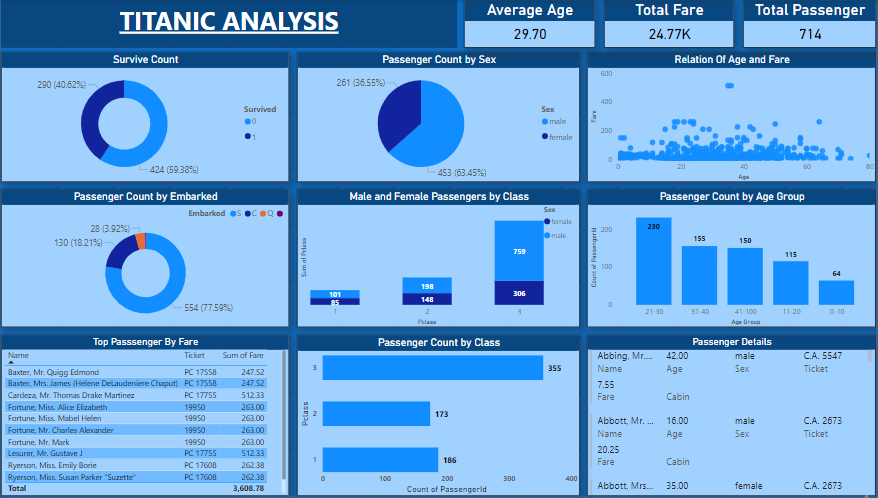

Layout of this report page (visuals, bound fields, positions):
{"tool":"powerbi","page":{"name":"DASHBOARD","canvas":[1500,850],"ordinal":0},"visuals":[{"type":"donutChart","title":"Survive Count","fields":{"Category":["Titanic-Dataset.Survived"],"Y":["Titanic-Dataset.PassengerId"]},"box":[0,89.1,493.7,222.9],"z":0},{"type":"pieChart","title":" Passenger Count by Sex","fields":{"Category":["Titanic-Dataset.Sex"],"Y":["Titanic-Dataset.PassengerId"]},"box":[507.4,89.1,485.1,222.9],"z":1000},{"type":"scatterChart","title":"Relation Of Age and Fare","fields":{"X":["Titanic-Dataset.Age"],"Y":["Titanic-Dataset.Fare"]},"box":[1004.6,89.1,495.4,222.9],"z":2000},{"type":"donutChart","title":"Passenger Count by Embarked","fields":{"Category":["Titanic-Dataset.Embarked"],"Y":["Titanic-Dataset.PassengerId"]},"box":[0,324,493.7,236.6],"z":3000},{"type":"tableEx","title":"Top Passsenger By Fare","fields":{"Values":["Titanic-Dataset.Name","Titanic-Dataset.Ticket","Titanic-Dataset.Fare"]},"box":[0,574.3,493.7,276],"z":4000},{"type":"card","title":"Average Age","fields":{"Values":["Titanic-Dataset.Age"]},"box":[793.7,0,224.6,82.3],"z":5000},{"type":"multiRowCard","title":"Passenger Details","fields":{"Values":["Titanic-Dataset.Name","Titanic-Dataset.Age","Titanic-Dataset.Sex","Titanic-Dataset.Ticket","Titanic-Dataset.Fare","Titanic-Dataset.Cabin"]},"box":[1004.6,574.3,495.4,276],"z":6000},{"type":"columnChart","title":"Male and Female Passengers by Class","fields":{"Category":["Titanic-Dataset.Pclass"],"Y":["Titanic-Dataset.Pclass"],"Series":["Titanic-Dataset.Sex"]},"box":[507.4,324,485.1,236.6],"z":7000},{"type":"columnChart","title":"Passenger Count by Age Group","fields":{"Y":["Titanic-Dataset.PassengerId"],"Category":["Titanic-Dataset.Age Group"]},"box":[1004.6,324,495.4,236.6],"z":8000},{"type":"card","title":"Total Fare","fields":{"Values":["Titanic-Dataset.Fare"]},"box":[1033.7,0,222.9,82.3],"z":9000},{"type":"card","title":"Total Passenger ","fields":{"Values":["Titanic-Dataset.PassengerId"]},"box":[1272,0,228,82.3],"z":10000},{"type":"textbox","title":"TITANIC ANALYSIS","box":[0,0,781.7,82.3],"z":11000},{"type":"barChart","title":"Passenger Count by Class","fields":{"Y":["Titanic-Dataset.PassengerId"],"Category":["Titanic-Dataset.Pclass"]},"box":[507,574,485,276],"z":12000}]}

Visuals, with their boxes in screenshot pixels (x1, y1, x2, y2), scaled from the page's 1500x850 canvas onto the 878x498 screenshot:
"Survive Count" donutChart: [left=0, top=52, right=289, bottom=183]
" Passenger Count by Sex" pieChart: [left=297, top=52, right=581, bottom=183]
"Relation Of Age and Fare" scatterChart: [left=588, top=52, right=877, bottom=183]
"Passenger Count by Embarked" donutChart: [left=0, top=190, right=289, bottom=328]
"Top Passsenger By Fare" tableEx: [left=0, top=336, right=289, bottom=497]
"Average Age" card: [left=465, top=0, right=596, bottom=48]
"Passenger Details" multiRowCard: [left=588, top=336, right=877, bottom=497]
"Male and Female Passengers by Class" columnChart: [left=297, top=190, right=581, bottom=328]
"Passenger Count by Age Group" columnChart: [left=588, top=190, right=877, bottom=328]
"Total Fare" card: [left=605, top=0, right=736, bottom=48]
"Total Passenger " card: [left=745, top=0, right=877, bottom=48]
"TITANIC ANALYSIS" textbox: [left=0, top=0, right=458, bottom=48]
"Passenger Count by Class" barChart: [left=297, top=336, right=581, bottom=497]
